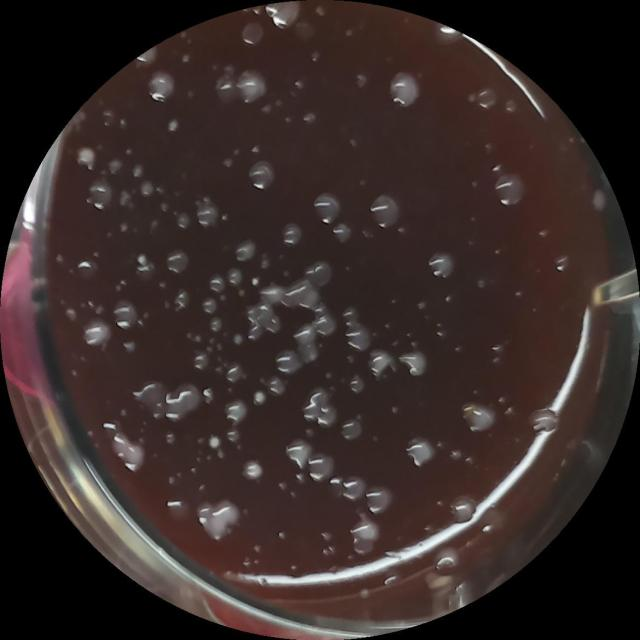Bacillus: (194, 495, 241, 544), (384, 68, 424, 112), (234, 63, 271, 109), (144, 69, 181, 109)
Staphylococcus: (250, 276, 260, 289)
